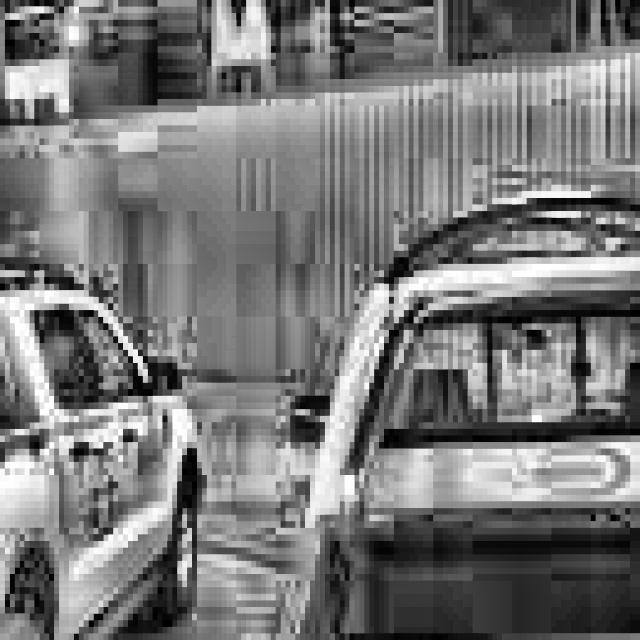light_vehicle: (246, 165, 640, 640), (0, 198, 266, 640)
